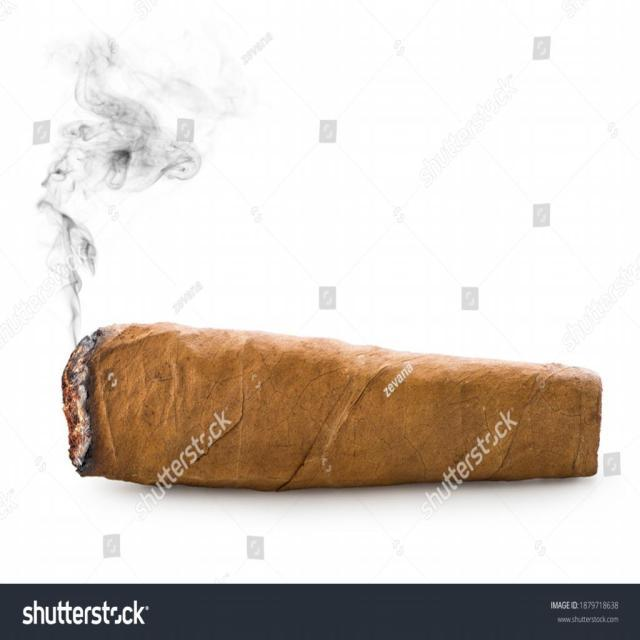smoking: (61, 320, 603, 492)
